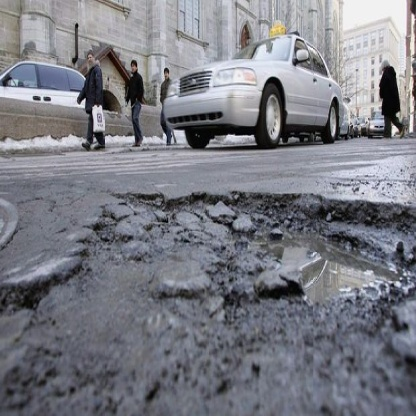pothole: (4, 186, 413, 416)
